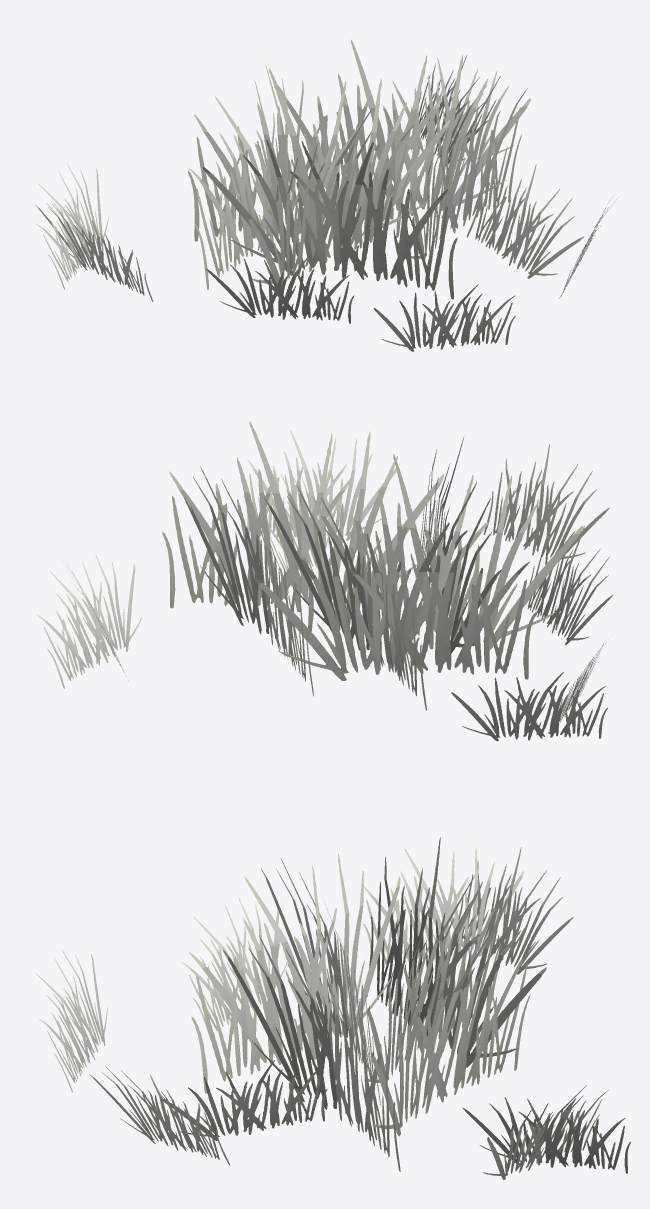
File: Grass 1.fbx
3 renders of one model, top to bottom at view 1: azimuth 30°, elevation 25°; view 2: azimuth 150°, elevation 25°; view 3: azimuth 270°, elevation 25°, orthographic. The views are drawn at different scales.
Parts seen in each view (by area): view 1: Plane; view 2: Plane; view 3: Plane.
Part boxes in pixels (left/top/right/bottom): Plane: left=35, top=39, right=616, bottom=351; Plane: left=37, top=421, right=612, bottom=741; Plane: left=35, top=837, right=630, bottom=1179.
Bounding box in the file's own units: 1.66 × 0.5354 × 1.49.
